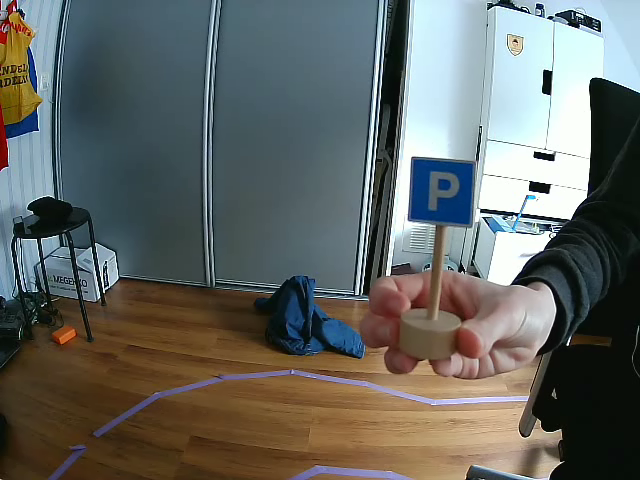parkeerbord: (412, 158, 476, 224)
